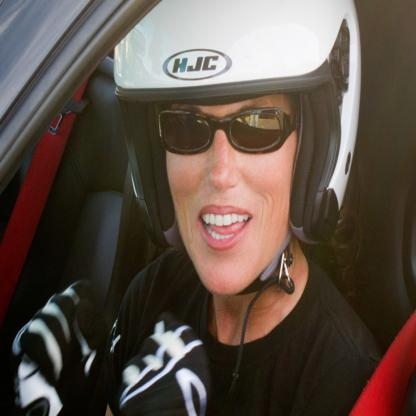Helmet: (100, 6, 351, 301)
